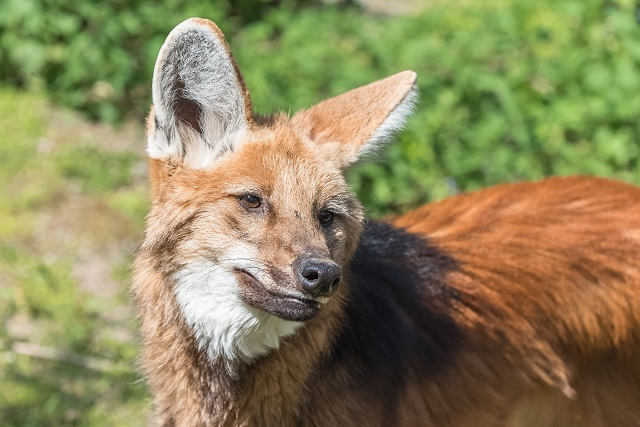LoboGuara: (107, 16, 628, 415)
